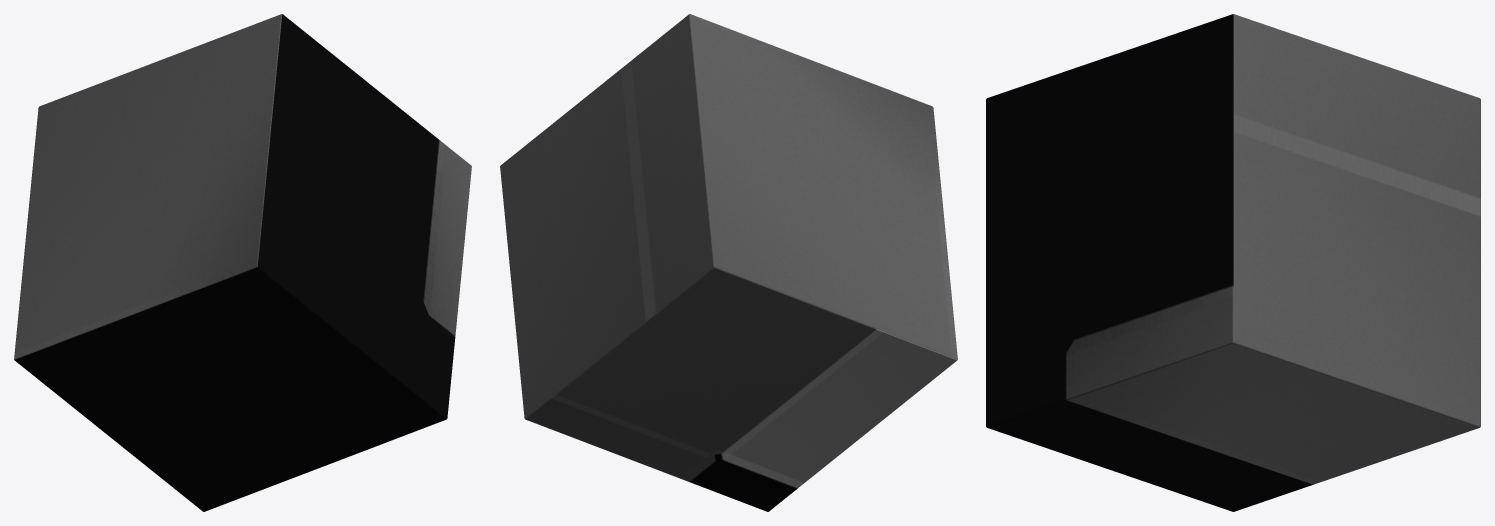
The model's file is gltf_test_01.gltf.
3 views of the same model, side by side, from view 1: azimuth 30°, elevation 25°; view 2: azimuth 150°, elevation 25°; view 3: azimuth 270°, elevation 25° (orthographic). The views are drawn at different scales.
Parts seen in each view (by area): view 1: Cube; view 2: Cube; view 3: Cube.
Part boxes in pixels (x1,y1,x2,y2): Cube: (14, 14, 471, 511); Cube: (500, 14, 957, 511); Cube: (986, 14, 1480, 511).
Size of what is drawn, in the model's own units: 3.4 by 3.4 by 2.82.
1 material, 1 textured.
